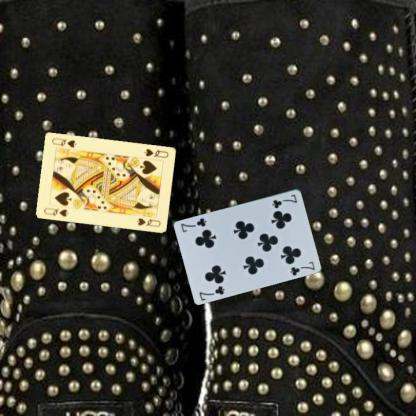7c: (197, 283, 226, 302), (270, 192, 298, 209)
Qs: (142, 145, 170, 159), (42, 204, 70, 218)
